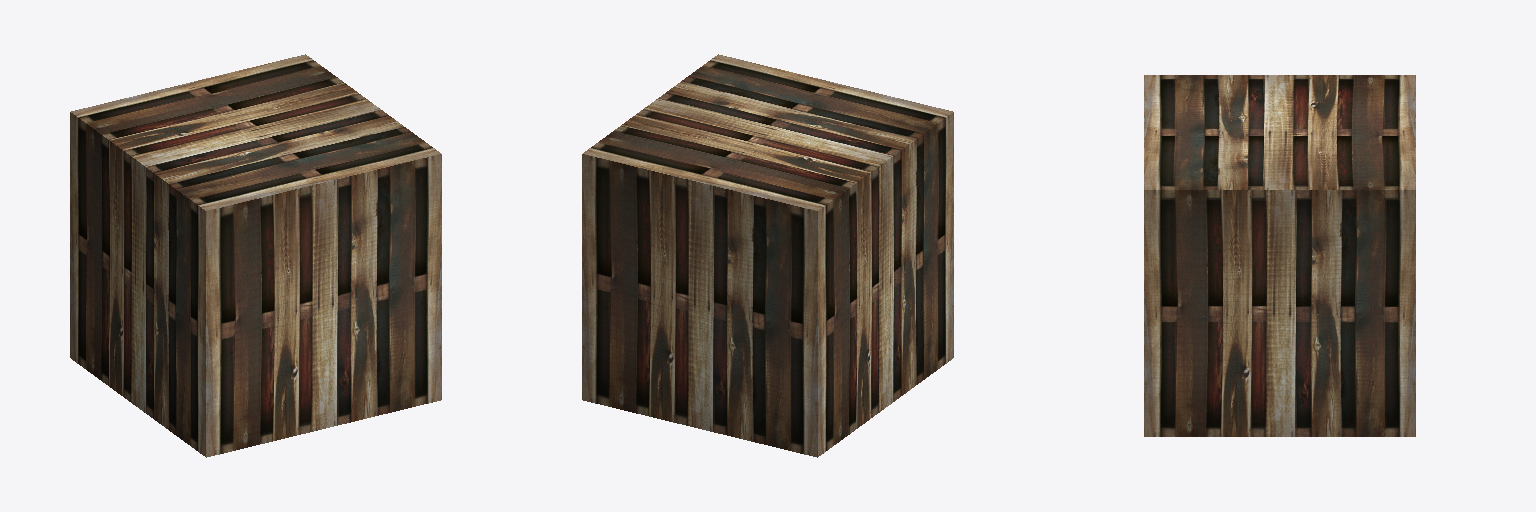
3 views of the same model, side by side, from view 1: azimuth 30°, elevation 25°; view 2: azimuth 150°, elevation 25°; view 3: azimuth 270°, elevation 25° (orthographic).
Parts seen in each view (by area): view 1: Cube_Cube.001; view 2: Cube_Cube.001; view 3: Cube_Cube.001.
Boxes of the visible parts, x1=… form: Cube_Cube.001: x1=70, y1=54, x2=441, y2=457; Cube_Cube.001: x1=582, y1=54, x2=953, y2=457; Cube_Cube.001: x1=1144, y1=75, x2=1415, y2=436.
Size of the model in its own units: 2 by 2 by 2.
1 materials, 1 textured.